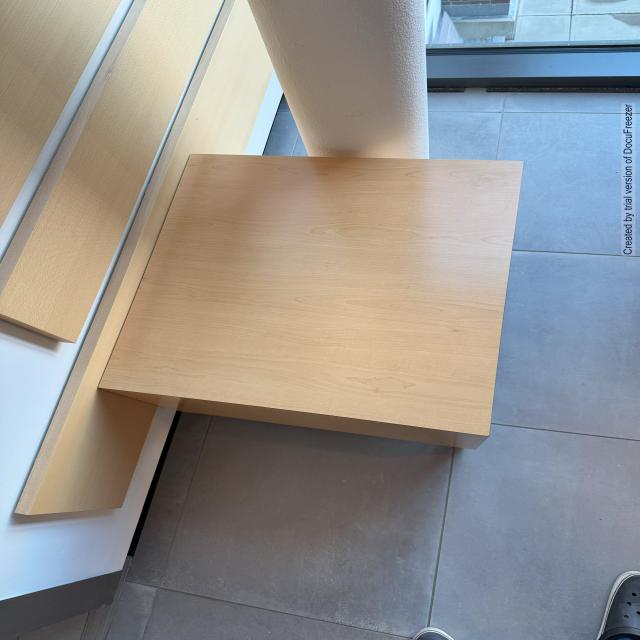Table: (75, 146, 514, 456)
